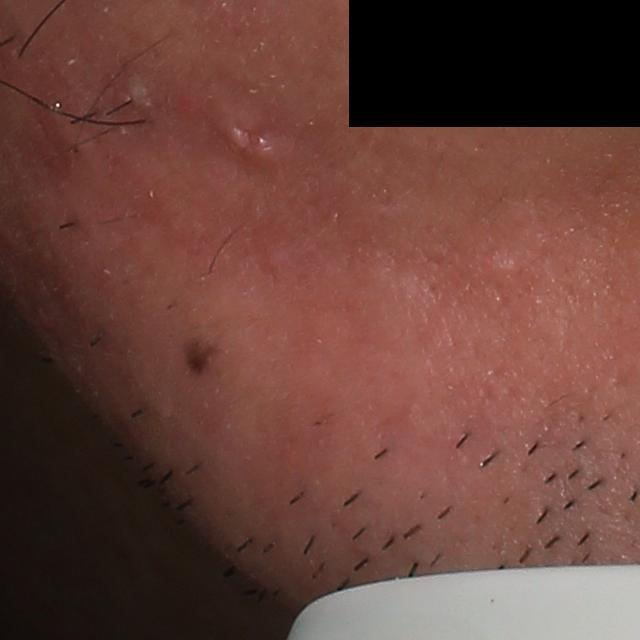hypertrophic_scar: (207, 92, 295, 175), (125, 73, 154, 116)
nevus: (177, 329, 226, 384)
